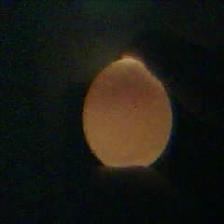infertile: (79, 55, 176, 173)
